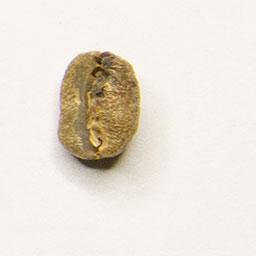defect: (51, 43, 145, 167)
